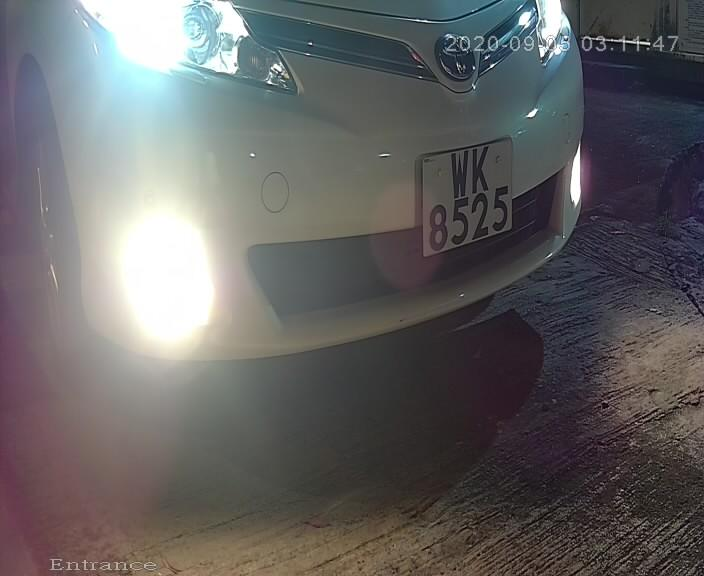License Plate: (403, 129, 531, 268)
